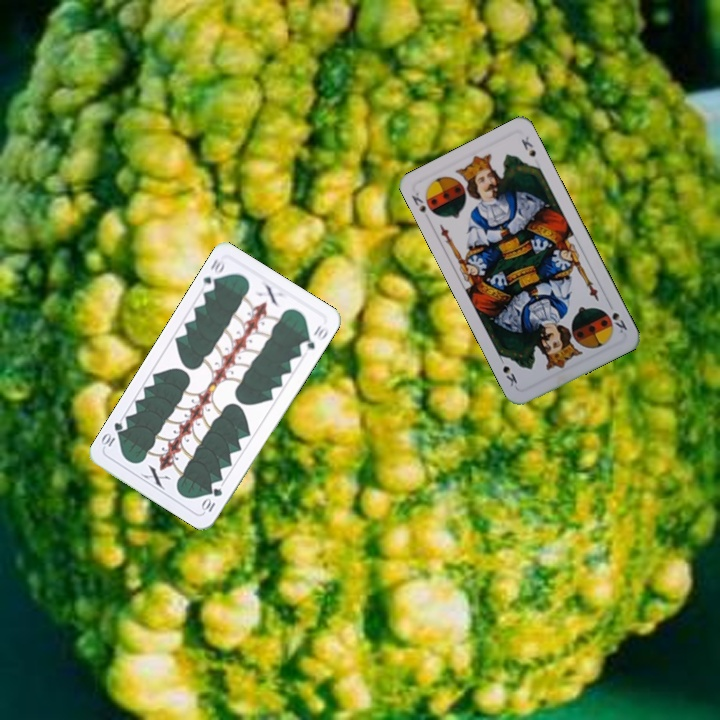G10: (197, 255, 228, 295), (198, 484, 225, 515)
SK: (601, 307, 630, 336), (407, 188, 428, 216)
